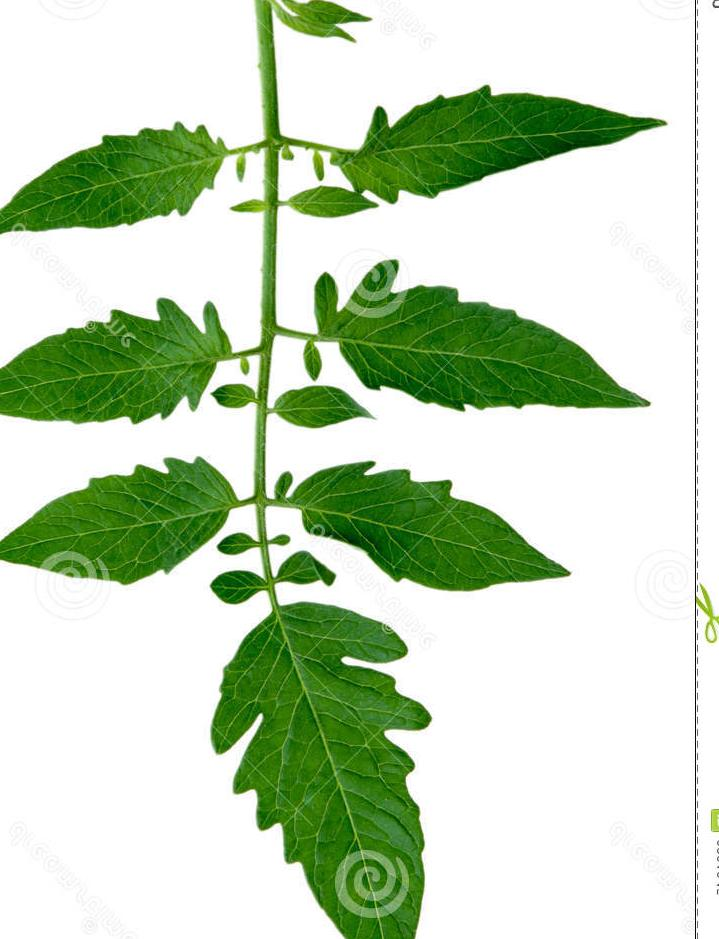Tomato leaf: (203, 585, 446, 939), (335, 249, 665, 439), (320, 54, 675, 224), (267, 437, 599, 596), (0, 96, 269, 273), (0, 288, 275, 441), (0, 452, 237, 609)
